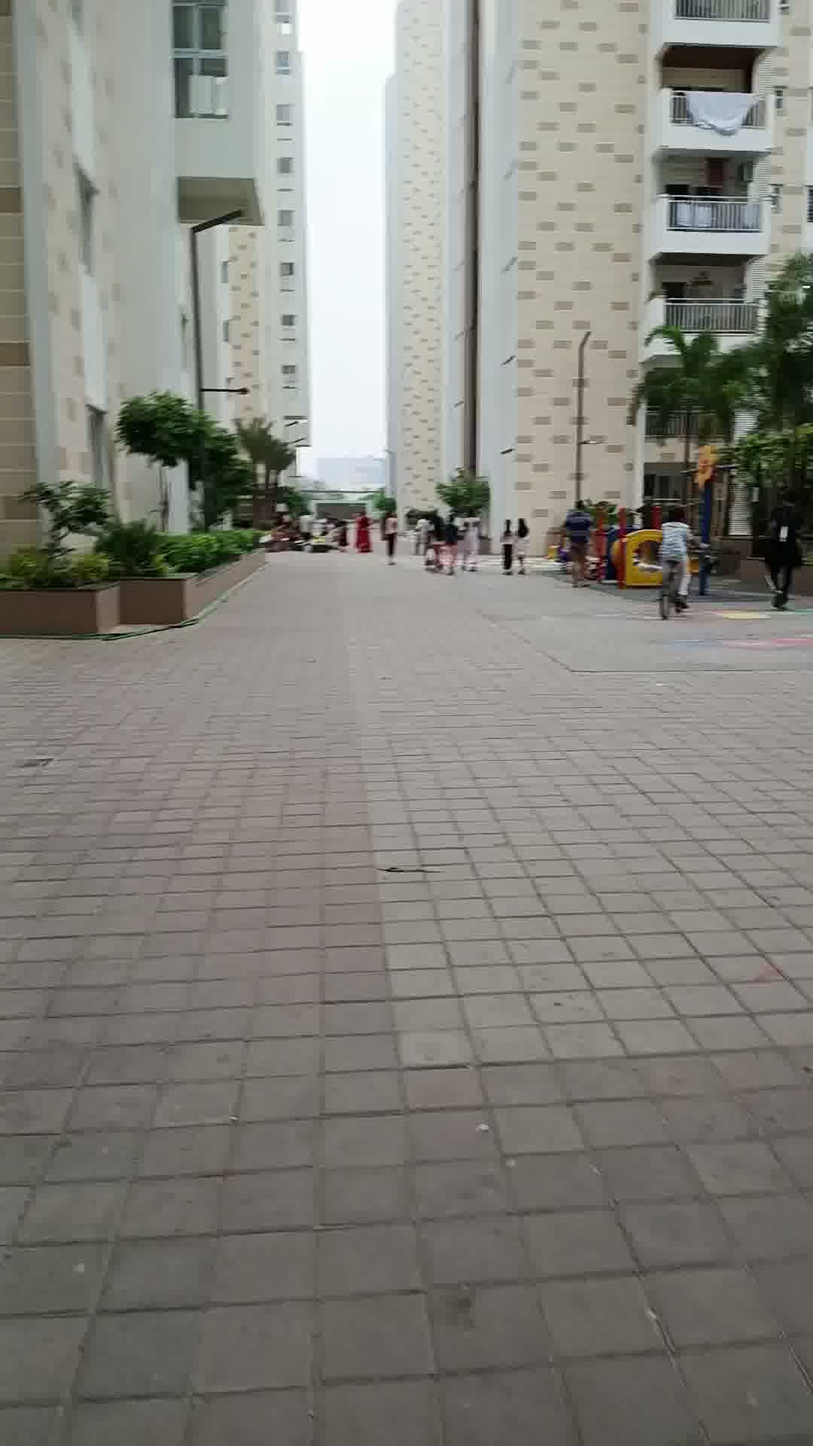person: (649, 488, 700, 627), (758, 488, 809, 618), (551, 485, 599, 601), (376, 495, 409, 569), (434, 506, 461, 587), (345, 497, 374, 558), (510, 503, 532, 581), (499, 503, 519, 579)
tree: (631, 294, 746, 523), (113, 372, 201, 585), (755, 256, 813, 499), (233, 403, 277, 540)
